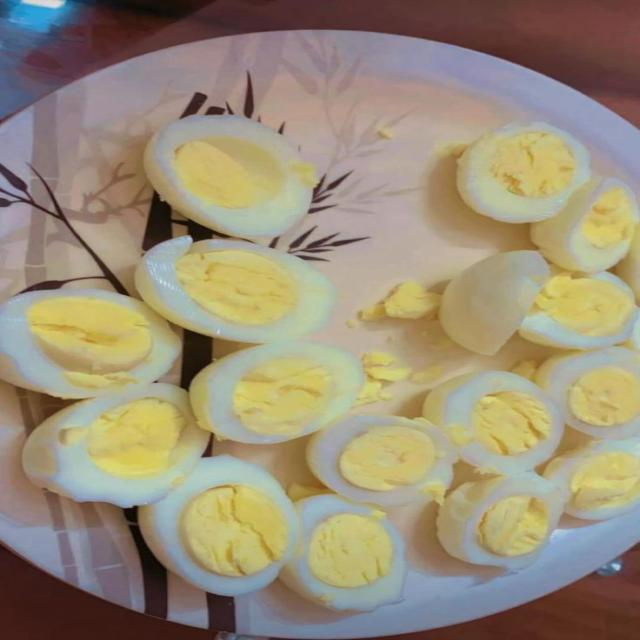eggs: (14, 88, 640, 604)
